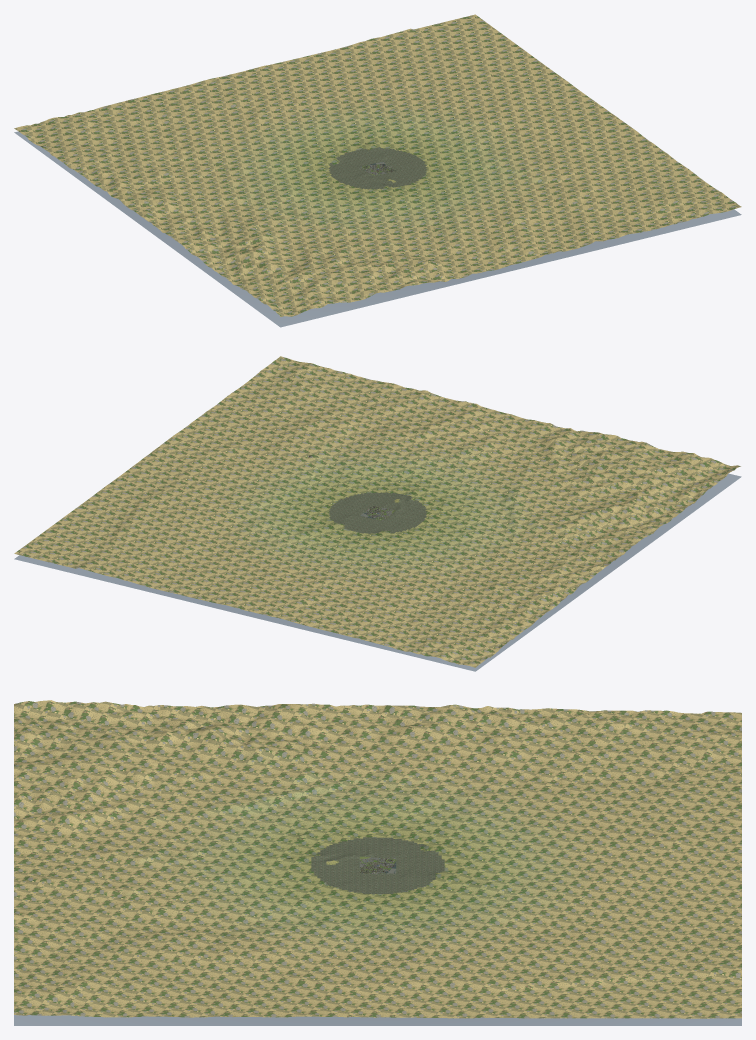
File: manuka_backdrop_part1.glb
3 views of the same model, one above another, from view 1: azimuth 30°, elevation 25°; view 2: azimuth 150°, elevation 25°; view 3: azimuth 270°, elevation 25° (orthographic). The views are drawn at different scales.
Parts seen in each view (by area): view 1: bg_far_terrain, bg_far_water, bg_far_suburb; view 2: bg_far_terrain, bg_far_water, bg_far_suburb; view 3: bg_far_terrain, bg_far_water, bg_far_suburb, bg_near_ground.
Part boxes in pixels (box(x1,y1,x2,y2)): bg_far_terrain: box(14, 14, 741, 316); bg_far_water: box(14, 131, 741, 327); bg_far_suburb: box(328, 147, 427, 189); bg_far_terrain: box(14, 356, 740, 667); bg_far_water: box(14, 473, 741, 671); bg_far_suburb: box(328, 492, 427, 533); bg_far_terrain: box(14, 700, 741, 1018); bg_far_water: box(14, 837, 741, 1025); bg_far_suburb: box(311, 837, 444, 893); bg_near_ground: box(359, 856, 396, 873).
Size of the model in its own units: 60009 by 1650 by 60007.
30 materials, 22 textured.
